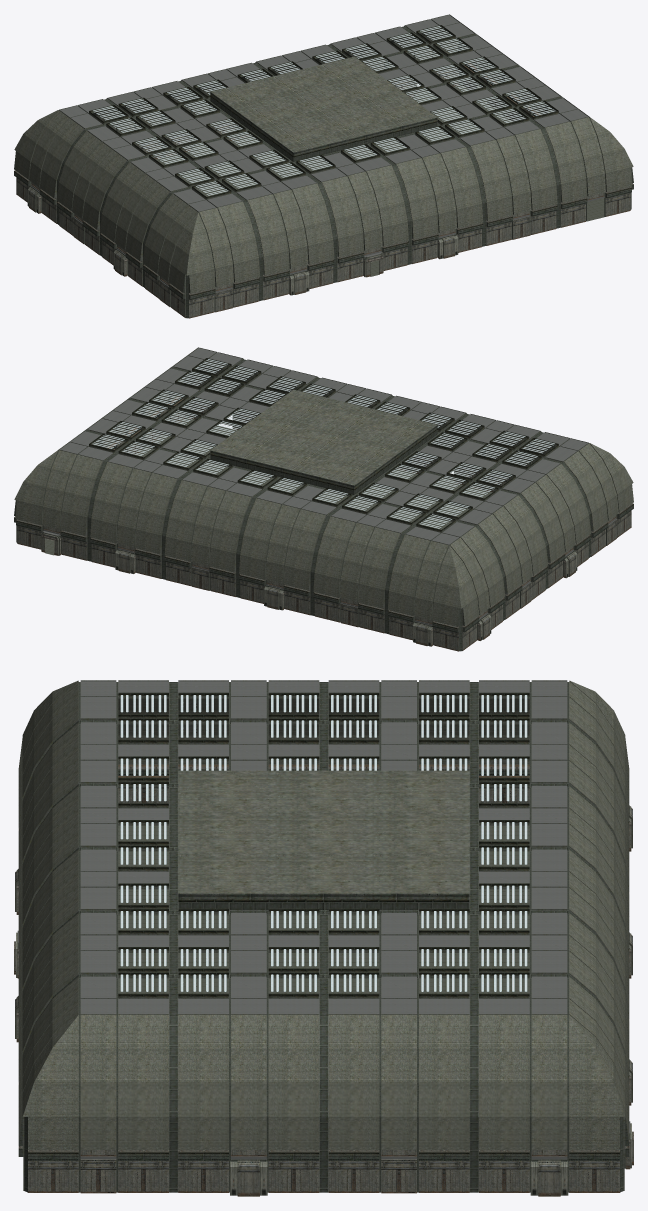
The model's file is poi_all_impl_bunker_crimelord_retreat_s01_r12_greathall_mesh_r12.fbx.
The picture shows the model from 3 angles, top to bottom: view 1: azimuth 30°, elevation 25°; view 2: azimuth 150°, elevation 25°; view 3: azimuth 270°, elevation 25°; orthographic projection. The views are drawn at different scales.
Visible parts, largest first — view 1: mesh_node; view 2: mesh_node; view 3: mesh_node.
Part boxes in pixels (x1,y1,x2,y2): mesh_node: [14, 14, 633, 318]; mesh_node: [14, 347, 633, 651]; mesh_node: [14, 680, 633, 1196].
Bounding box in the file's own units: 97.8 × 20 × 66.
